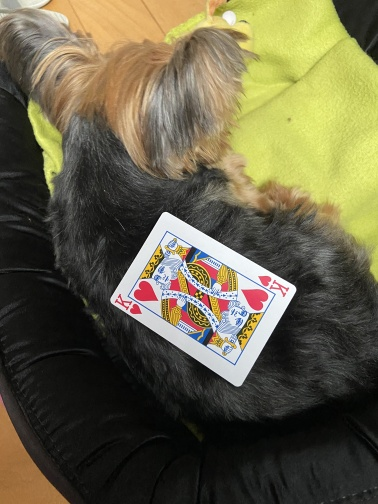king: (108, 210, 299, 388)
